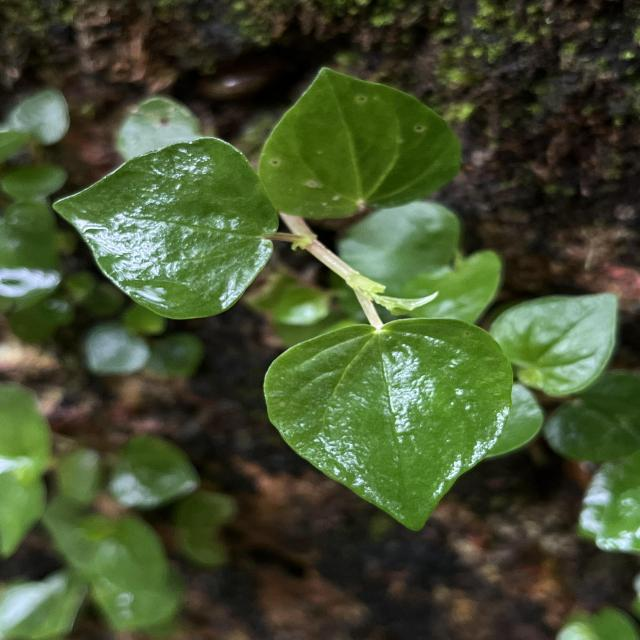Peperomia pellucida: (258, 314, 516, 536), (51, 134, 282, 325)
